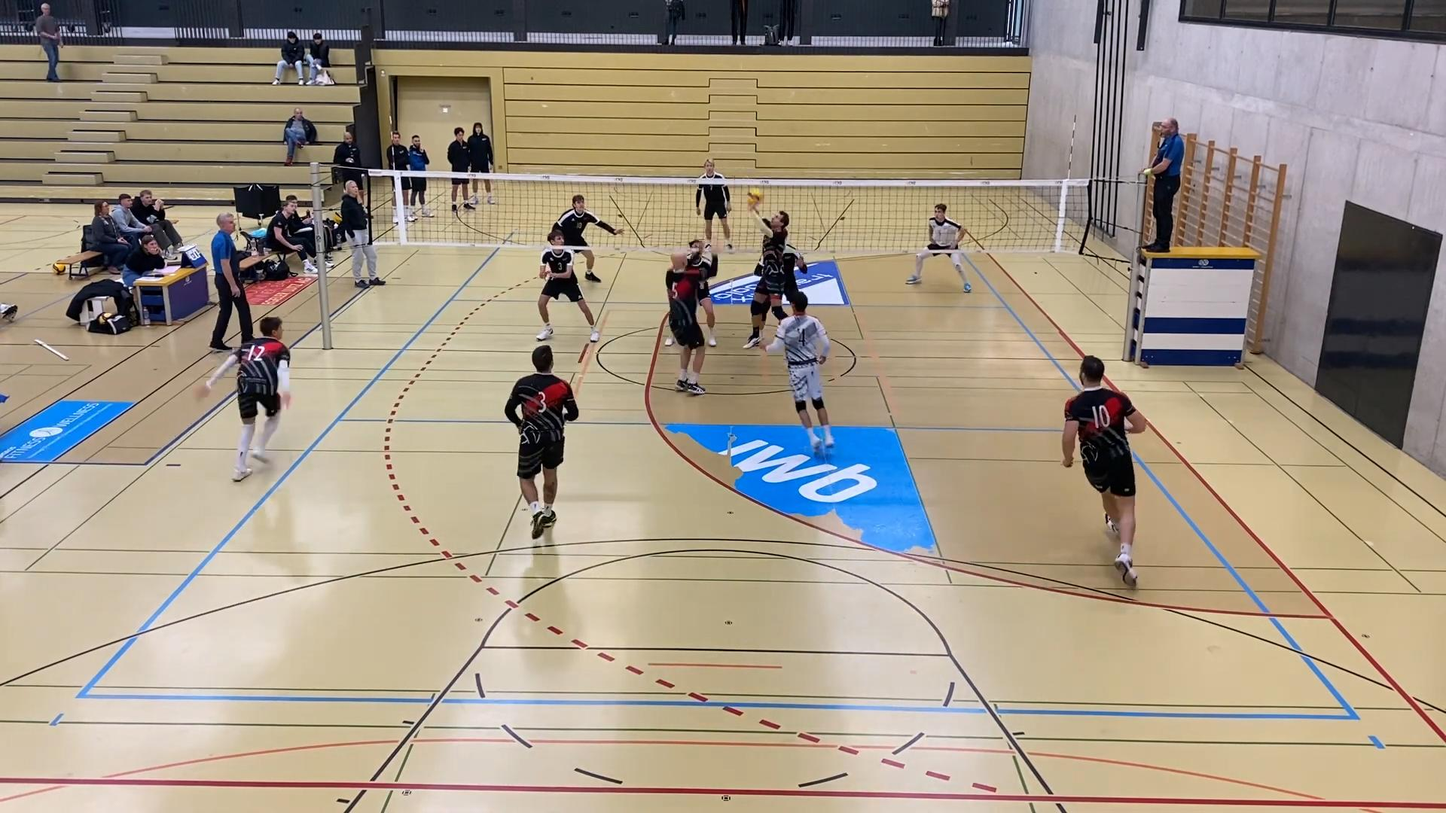Player: (1062, 356, 1147, 586), (197, 317, 290, 481), (504, 345, 578, 537), (765, 291, 833, 452), (536, 230, 599, 342), (906, 203, 971, 292), (554, 194, 618, 282), (667, 251, 705, 395), (686, 239, 717, 346), (695, 159, 731, 250), (0, 303, 18, 322)
Set: (746, 210, 797, 348)
ball: (745, 185, 766, 209)
